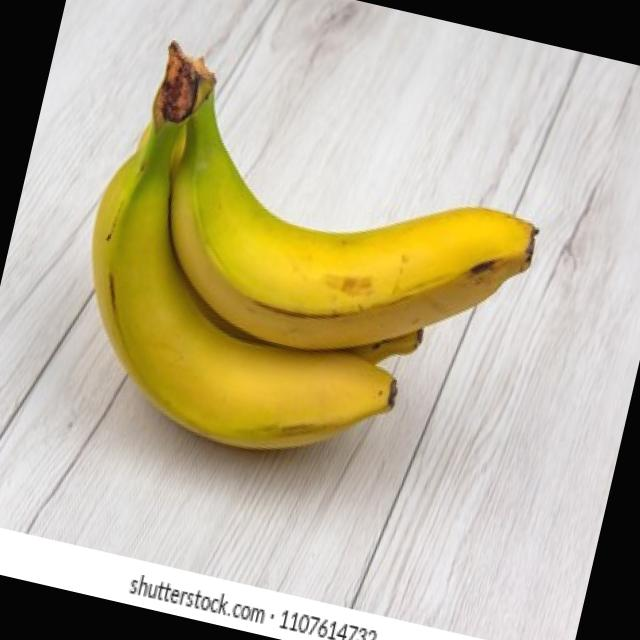banana: (44, 23, 570, 515)
